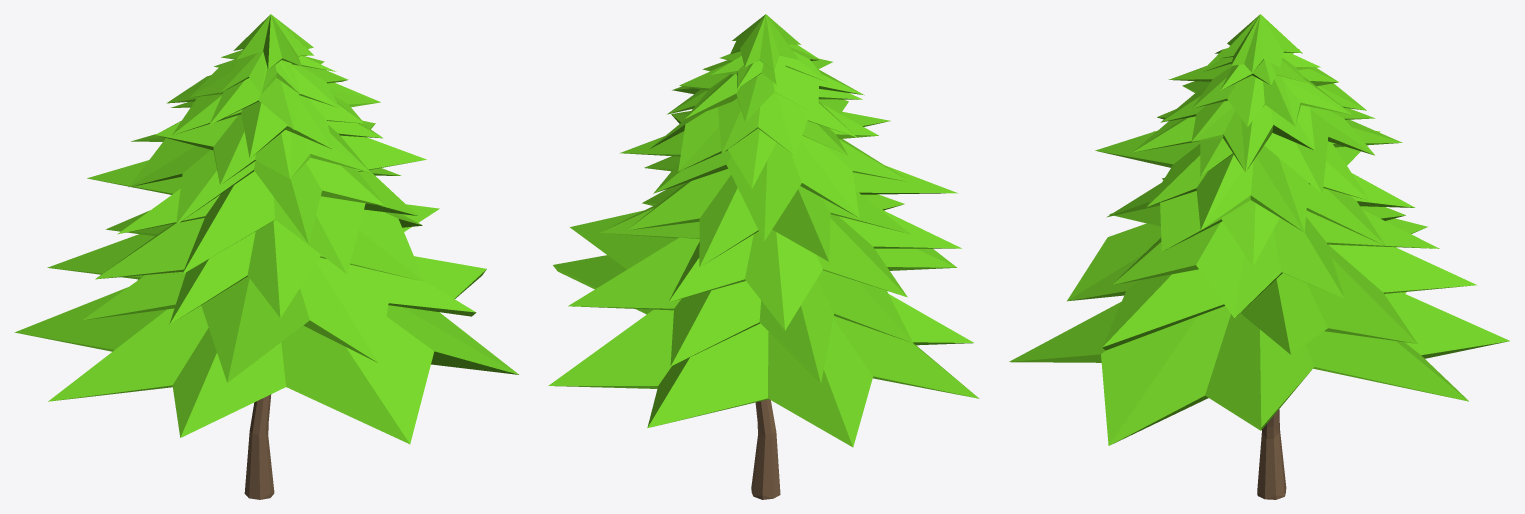
Rendered from Tree_05.fbx.
The picture shows the model from 3 angles, left to right: view 1: azimuth 30°, elevation 25°; view 2: azimuth 150°, elevation 25°; view 3: azimuth 270°, elevation 25°; orthographic projection.
Visible parts, largest first — view 1: Tree_05; view 2: Tree_05; view 3: Tree_05.
Part boxes in pixels (x1,y1,x2,y2): Tree_05: (14,14,518,499); Tree_05: (548,14,979,499); Tree_05: (1009,14,1509,499).
Size of the model in its own units: 380 by 401 by 378.
